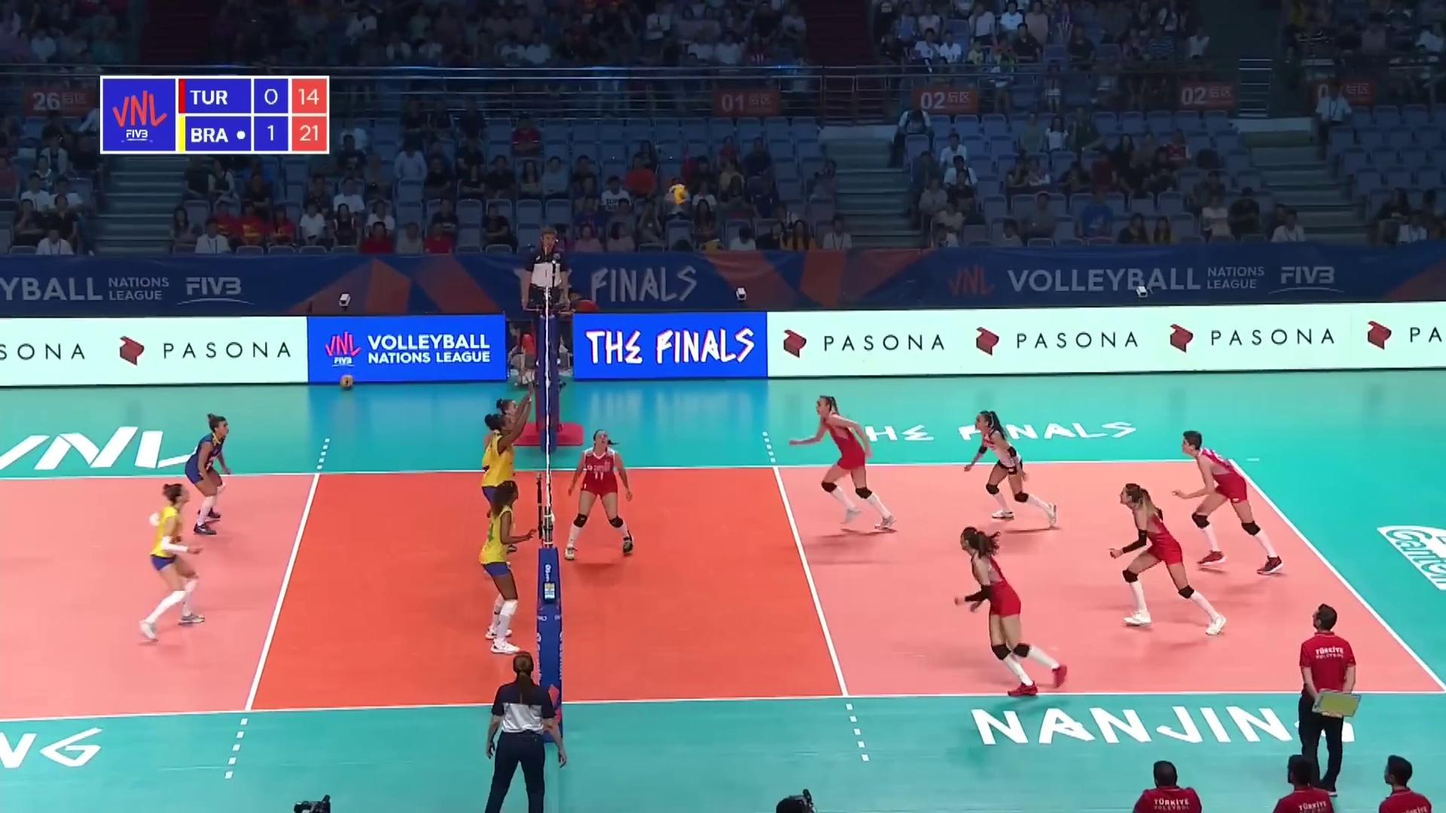player: (953, 527, 1069, 697), (1108, 482, 1226, 631), (1177, 432, 1283, 578), (792, 396, 895, 533), (963, 409, 1057, 528), (137, 485, 204, 644), (480, 481, 536, 654), (566, 429, 636, 560), (483, 386, 532, 572), (185, 414, 233, 535), (490, 396, 526, 534)
refree: (485, 651, 556, 810), (523, 229, 569, 365)
